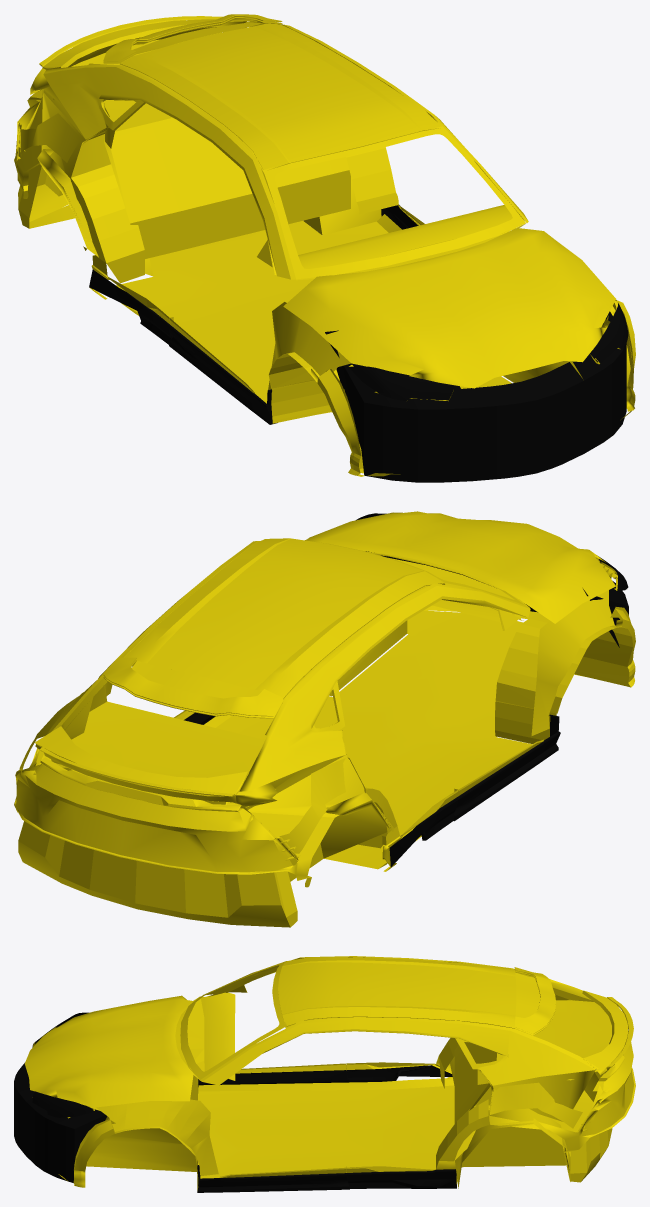
3 renders of one model, top to bottom at view 1: azimuth 30°, elevation 25°; view 2: azimuth 150°, elevation 25°; view 3: azimuth 270°, elevation 25°, orthographic. The views are drawn at different scales.
Visible parts, largest first — view 1: pasted__Retopo_polySurface1116; view 2: pasted__Retopo_polySurface1116; view 3: pasted__Retopo_polySurface1116.
Part boxes in pixels (<box>): pasted__Retopo_polySurface1116: <box>14,14,635,482</box>; pasted__Retopo_polySurface1116: <box>14,511,635,927</box>; pasted__Retopo_polySurface1116: <box>14,956,635,1192</box>.
Size of the model in its own units: 214 by 142 by 503.
